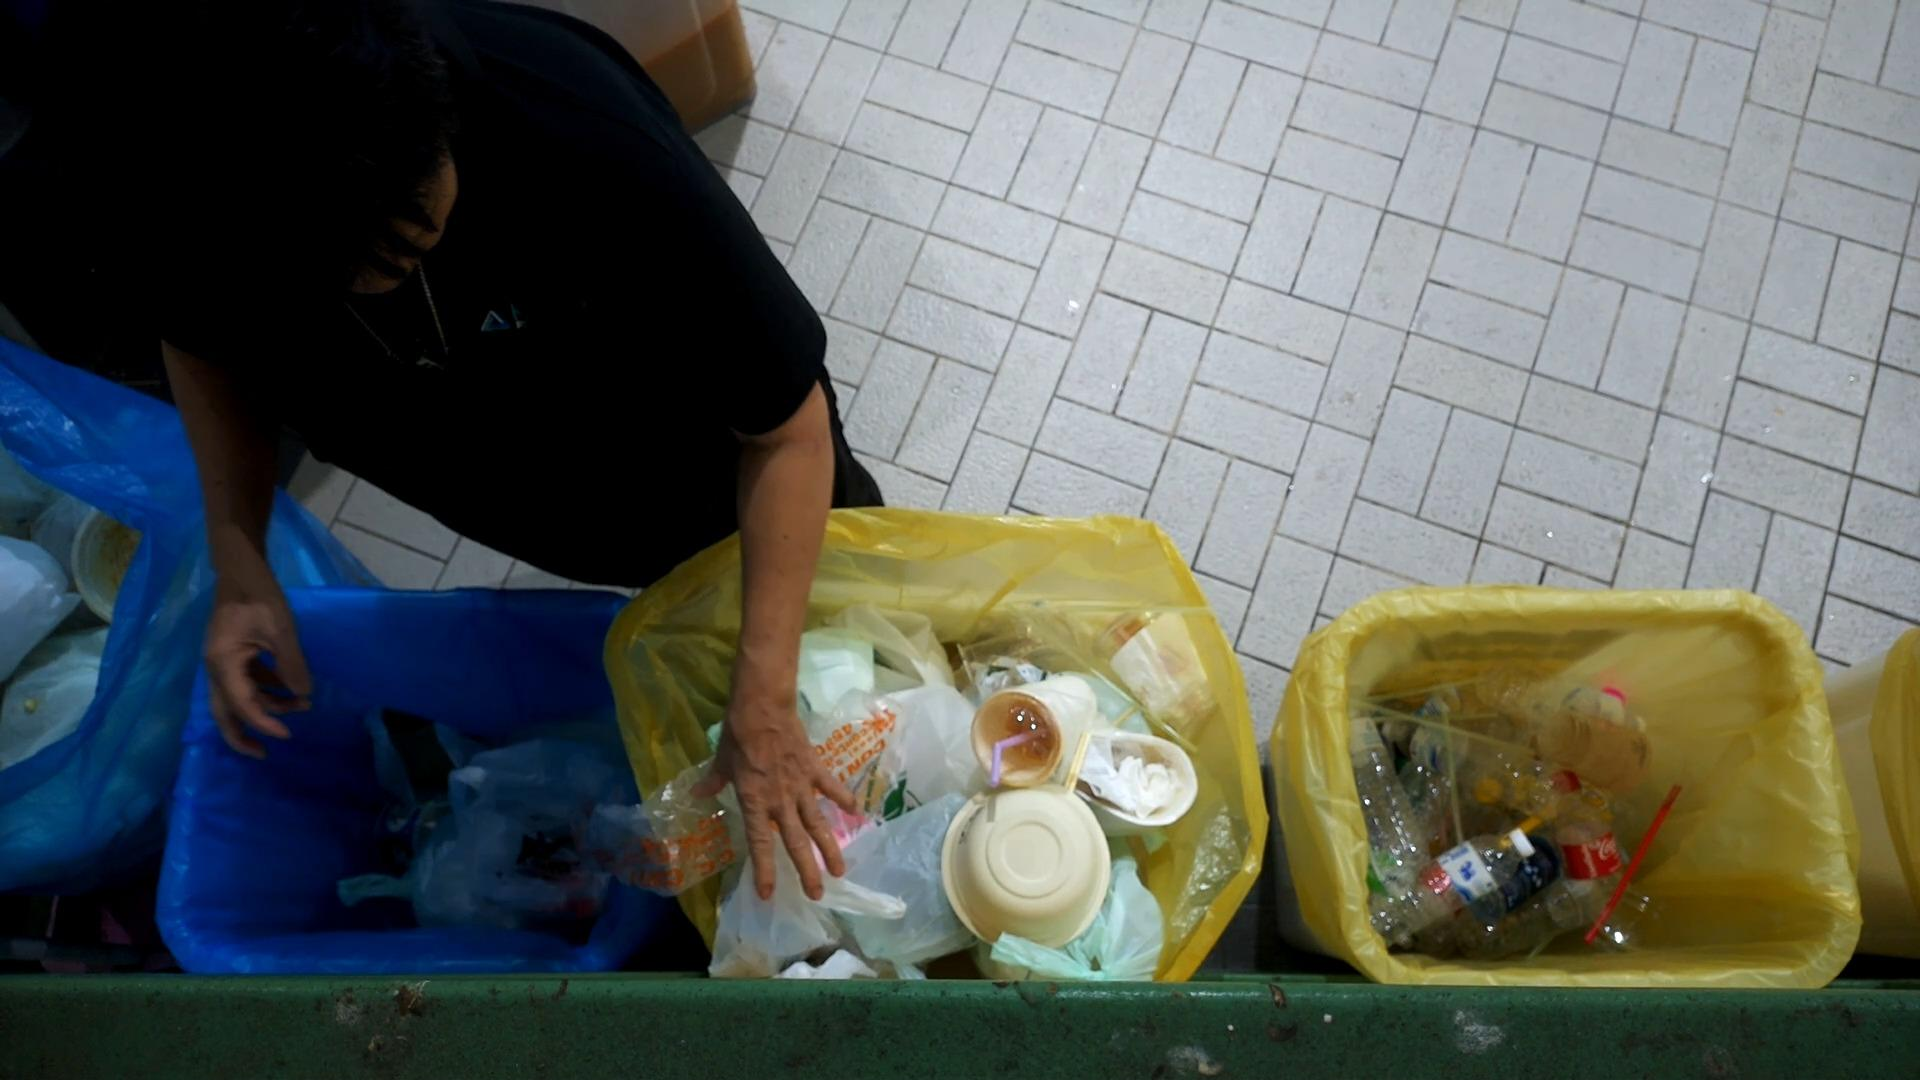filled plastic bag: (810, 603, 972, 811), (981, 858, 1174, 990)
food container: (942, 778, 1120, 959), (1068, 723, 1207, 837)
plastic bag: (597, 695, 905, 893), (348, 732, 626, 939)
plastic bottle: (1367, 824, 1542, 951), (1332, 696, 1436, 893), (1549, 765, 1629, 932)
plastic cup: (1096, 597, 1221, 731), (968, 678, 1095, 789)
straw: (1582, 783, 1687, 955), (1360, 690, 1543, 765), (1423, 690, 1482, 852), (986, 721, 1038, 796)
tissue paper: (1093, 745, 1174, 816)
